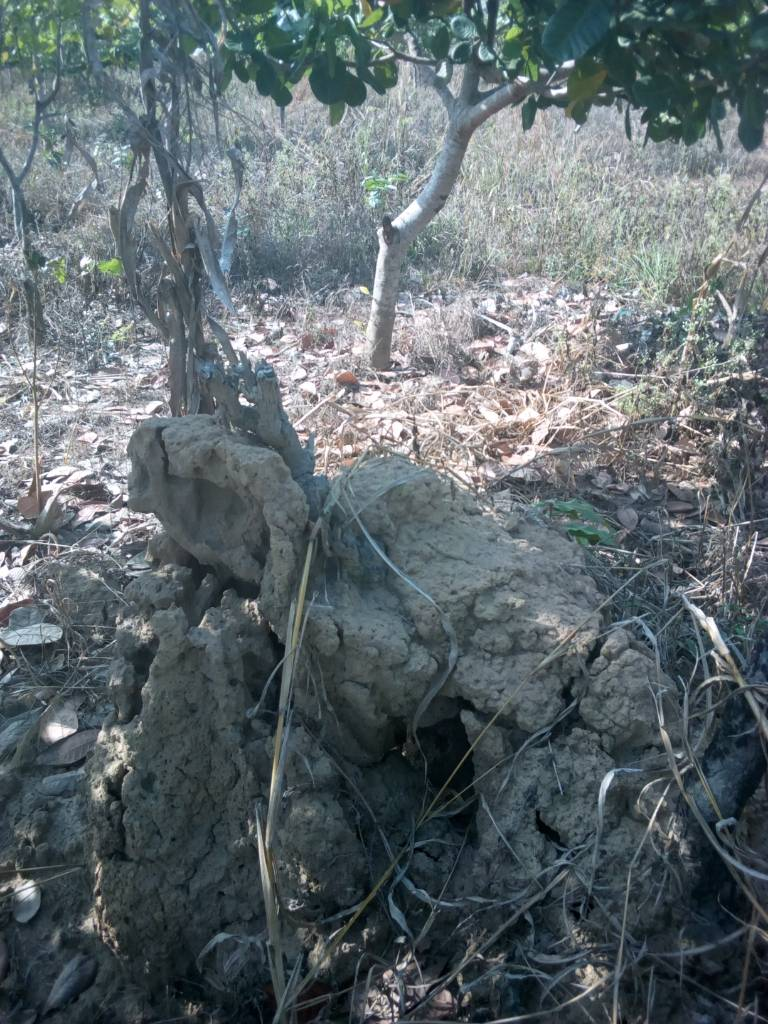Termites: (95, 497, 628, 933)
